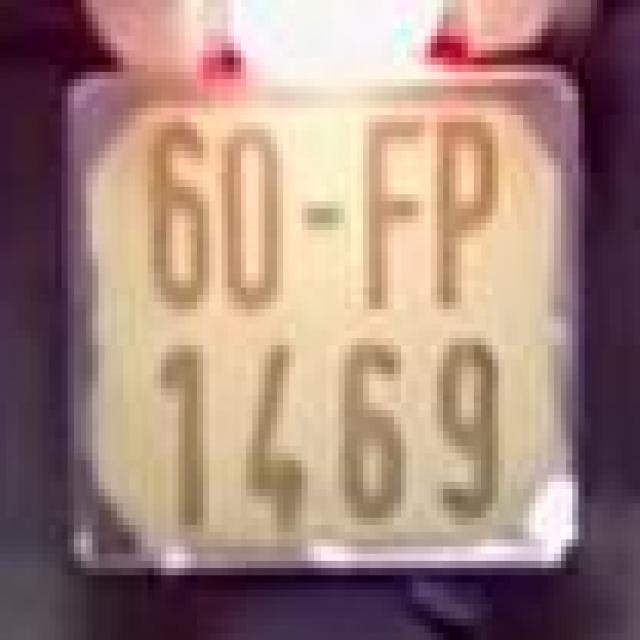0: (210, 101, 296, 316)
1: (148, 331, 215, 539)
4: (234, 324, 314, 546)
6: (138, 115, 218, 316), (329, 338, 409, 532)
9: (425, 334, 523, 550)
F: (344, 94, 424, 316)
P: (424, 97, 510, 334)
